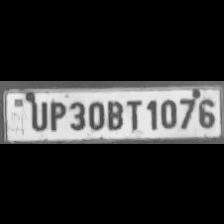0: (156, 96, 176, 128), (86, 97, 104, 129)
1: (142, 96, 158, 130)
3: (66, 97, 86, 130)
6: (194, 96, 216, 128)
7: (176, 94, 194, 128)
B: (104, 96, 124, 130)
P: (47, 97, 65, 130)
T: (125, 96, 144, 130)
U: (27, 98, 47, 130)
